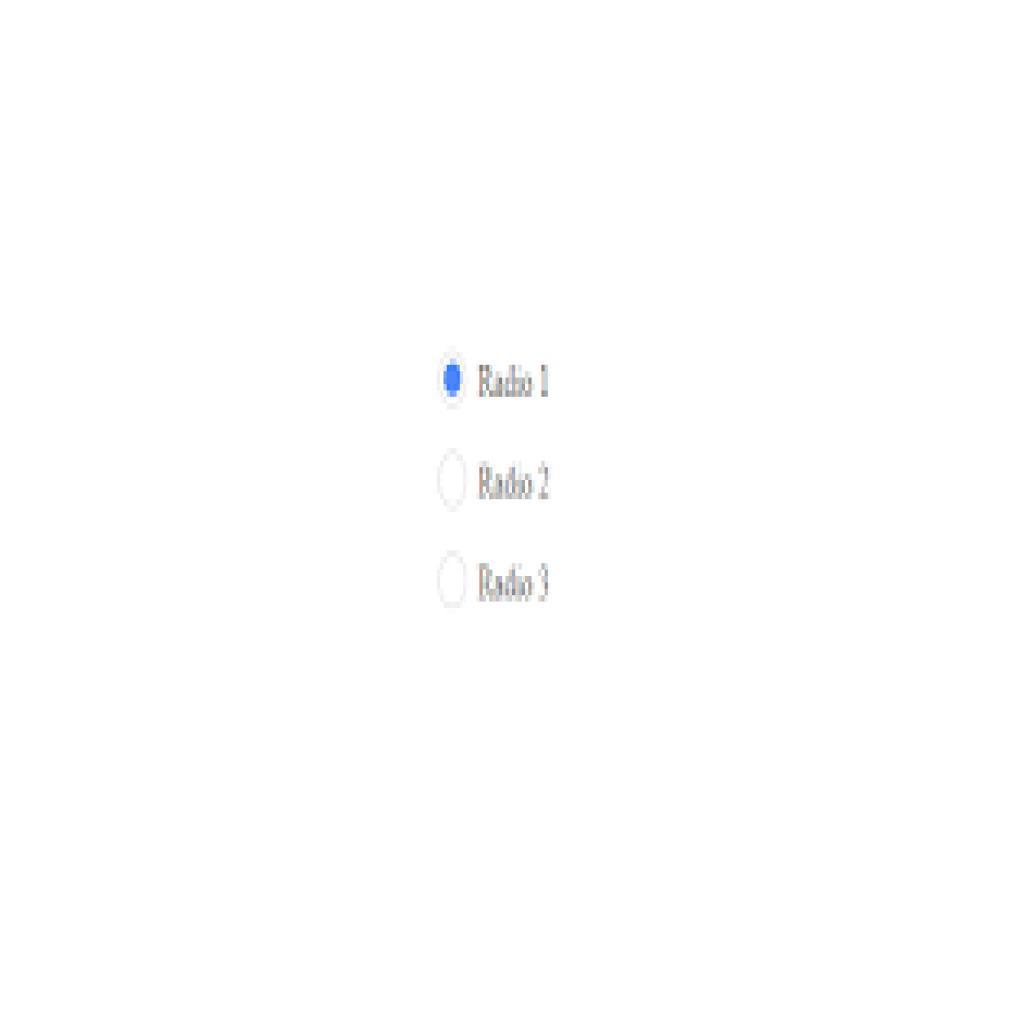radio: (435, 545, 474, 615), (434, 344, 469, 416), (439, 449, 469, 520)
